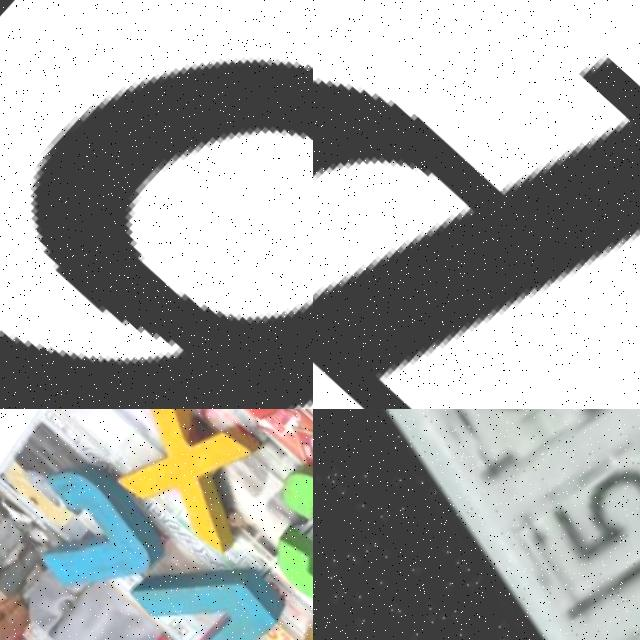5: (526, 429, 640, 597)
6: (0, 0, 313, 409), (433, 409, 602, 469)
C: (231, 443, 313, 640)
P: (313, 58, 640, 409)
V: (119, 523, 296, 640)
X: (74, 409, 289, 571)
